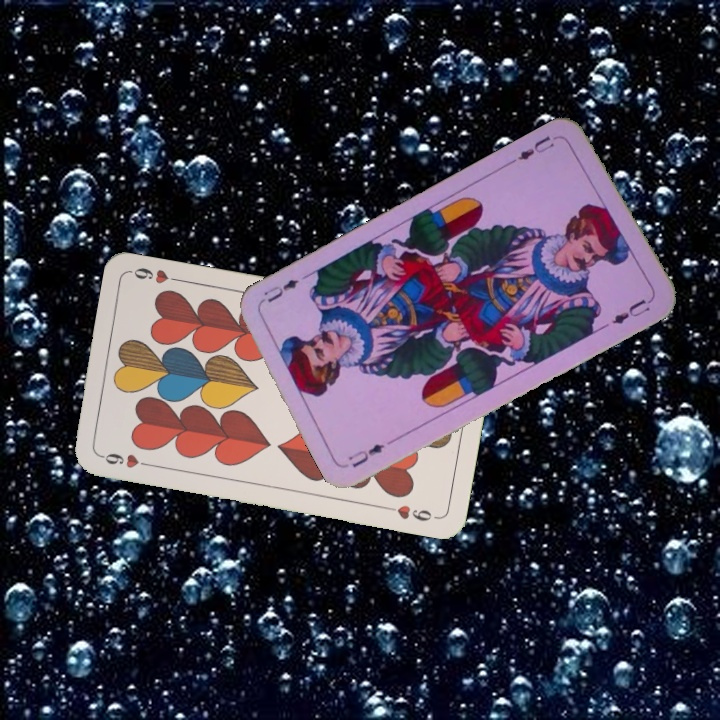EU: (509, 131, 564, 165), (343, 439, 387, 471)
H9: (96, 449, 155, 471)
